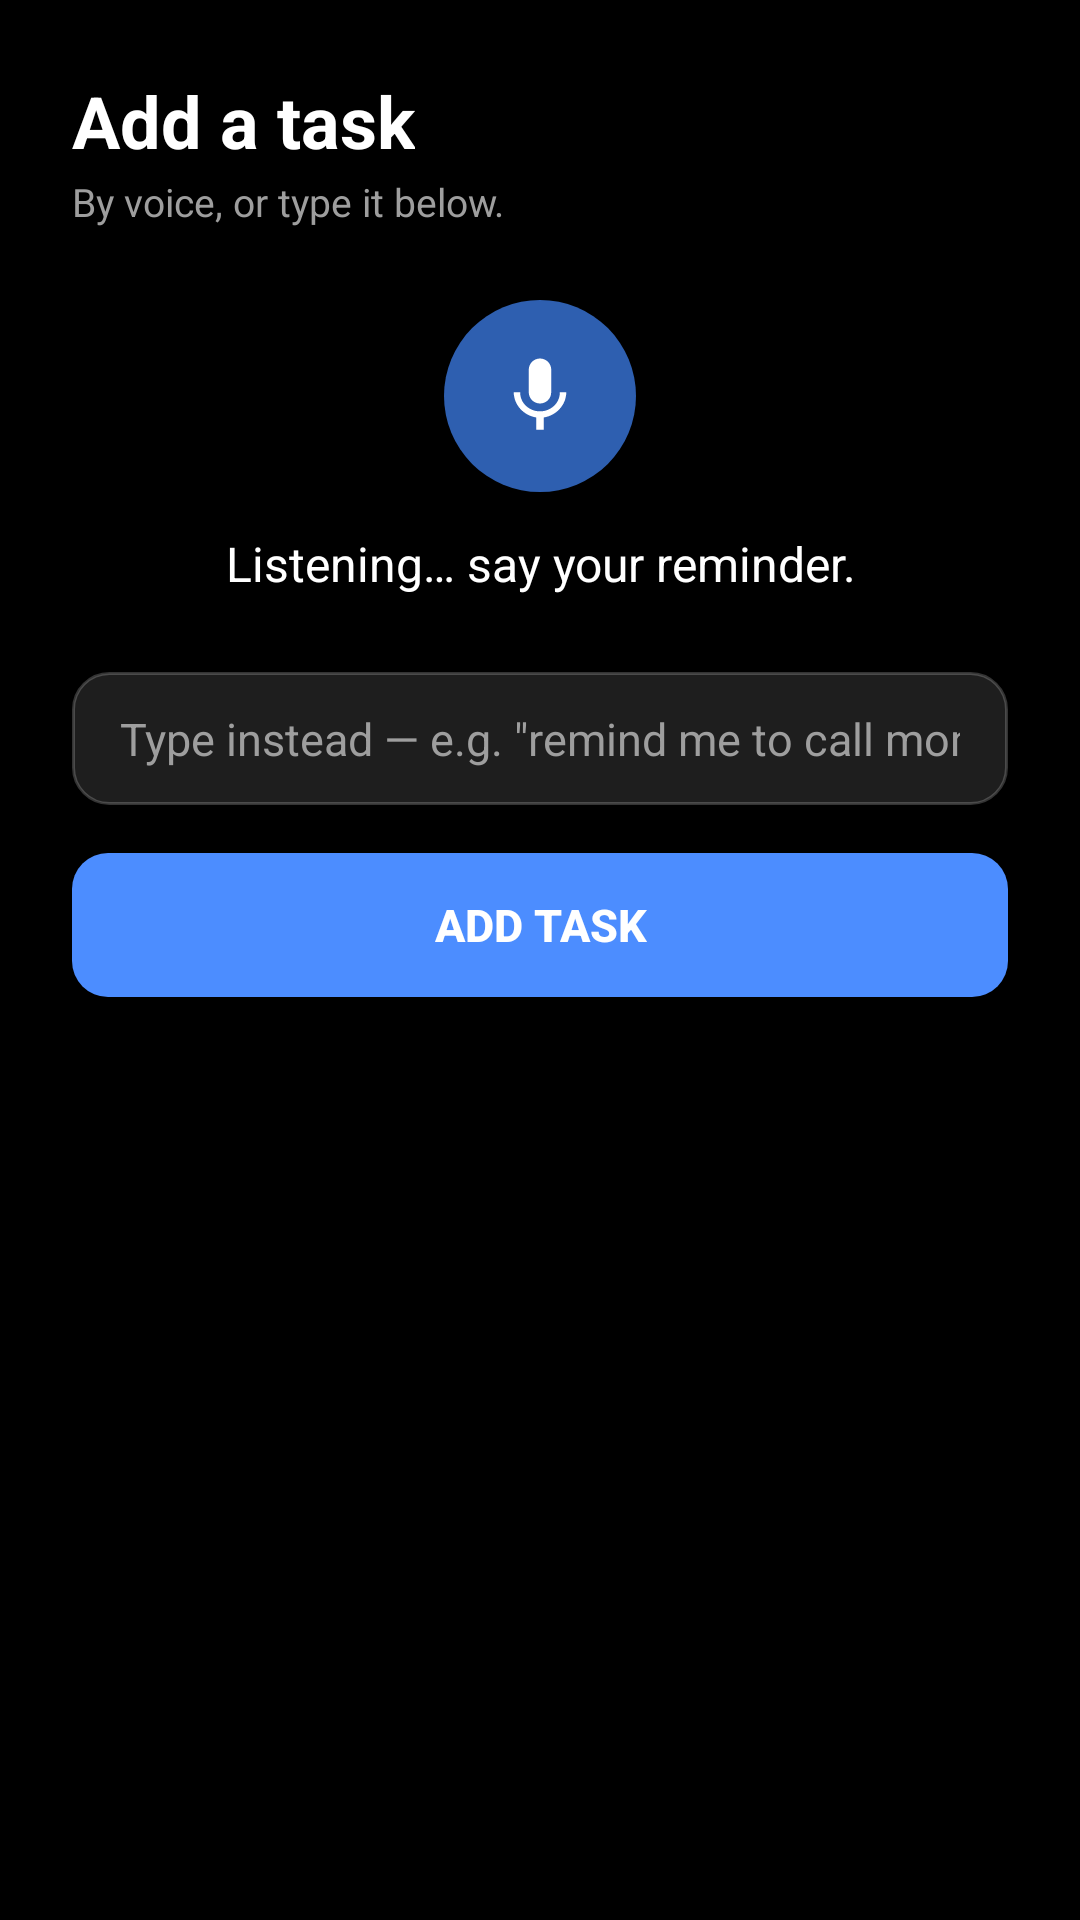

Where to tap for icons on this 1080w x 1920h app screen, as (x=x, y=y):
Microphone: (x=540, y=394)
